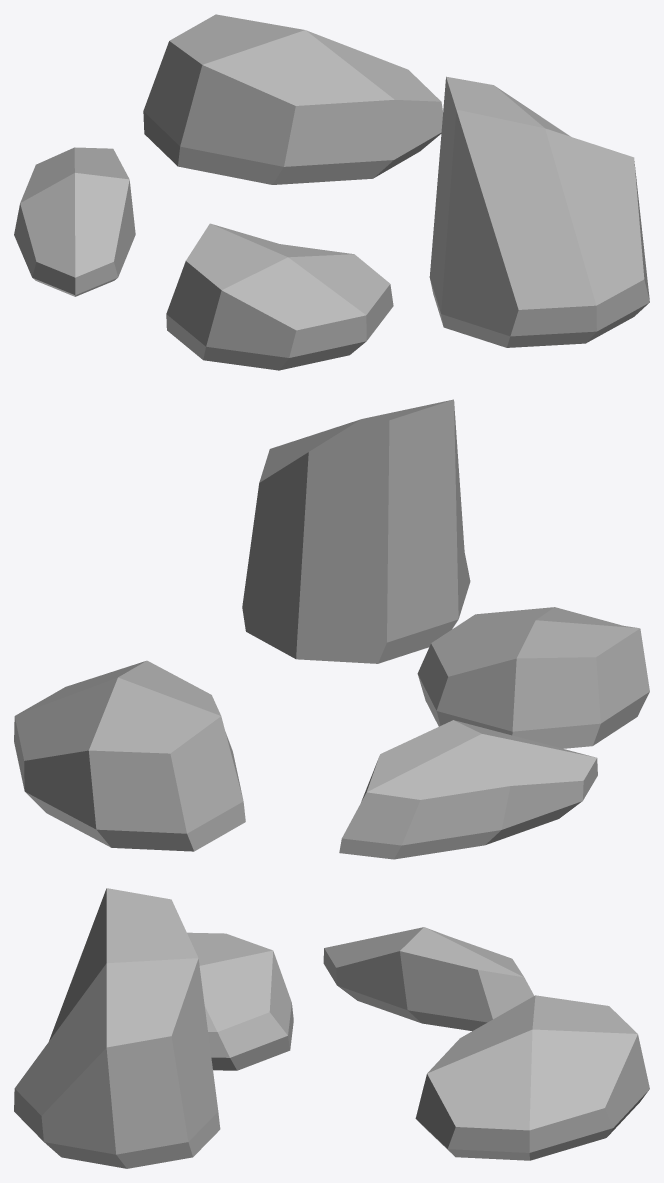
The model's file is pebbles2.glb.
3 renders of one model, top to bottom at view 1: azimuth 30°, elevation 25°; view 2: azimuth 150°, elevation 25°; view 3: azimuth 270°, elevation 25°, orthographic. The views are drawn at different scales.
Visible parts, largest first — view 1: Pebbles.002; view 2: Pebbles.002; view 3: Pebbles.002.
Boxes of the visible parts, x1,y1,x2,y2 form: Pebbles.002: (14, 14, 649, 370); Pebbles.002: (14, 399, 649, 859); Pebbles.002: (14, 888, 649, 1168).
Bounding box in the file's own units: 0.6603 × 0.3081 × 0.8766.
1 material, 1 textured.
